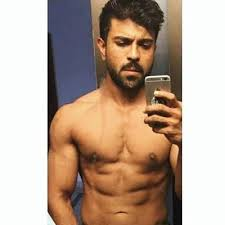Indian_Male: (106, 4, 161, 92)
